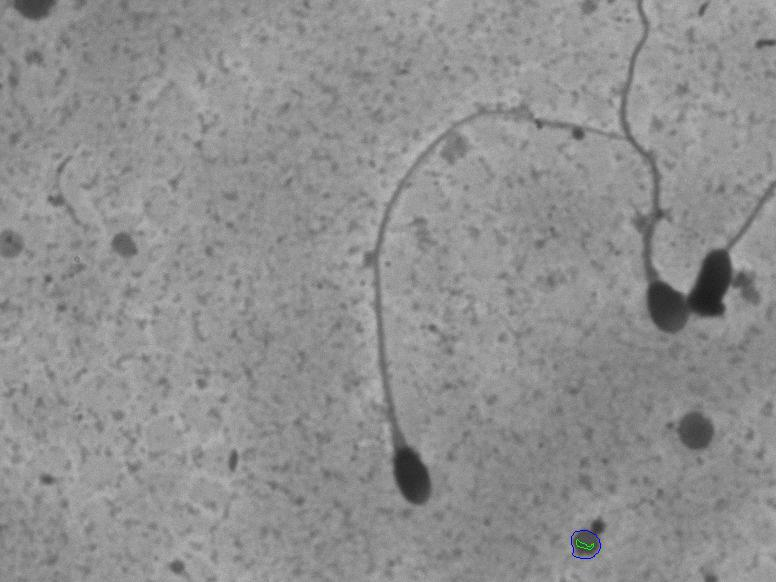Normal: (358, 100, 629, 522), (612, 12, 694, 346)
